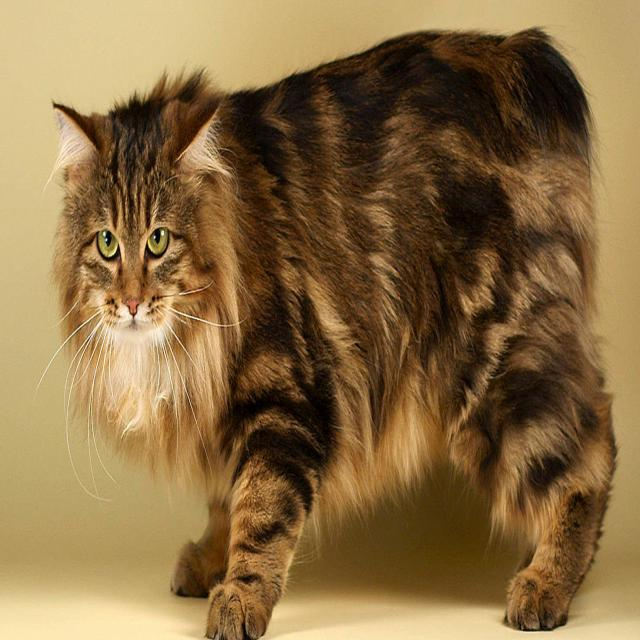American Bobtail: (47, 21, 618, 640)
